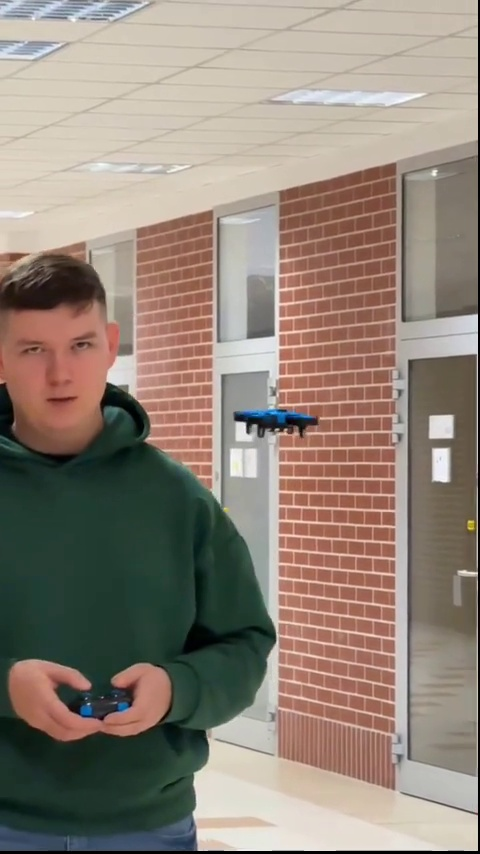drone: (231, 406, 318, 442)
no vest: (0, 252, 278, 828)
